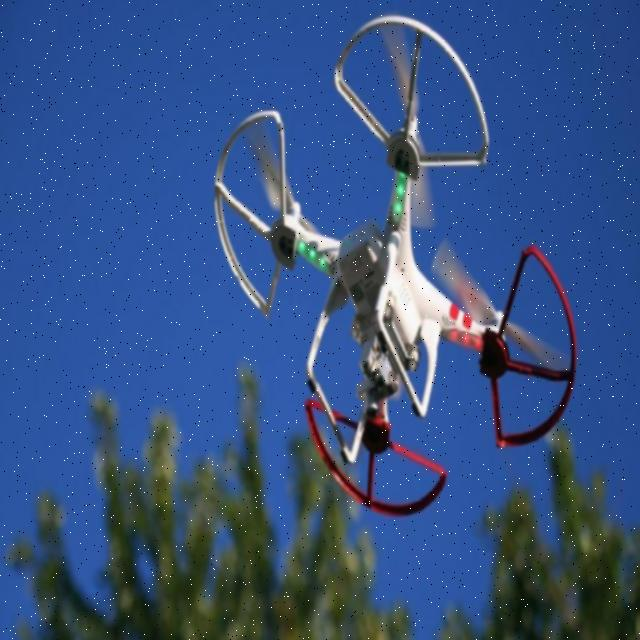UAV: (212, 11, 578, 527)
